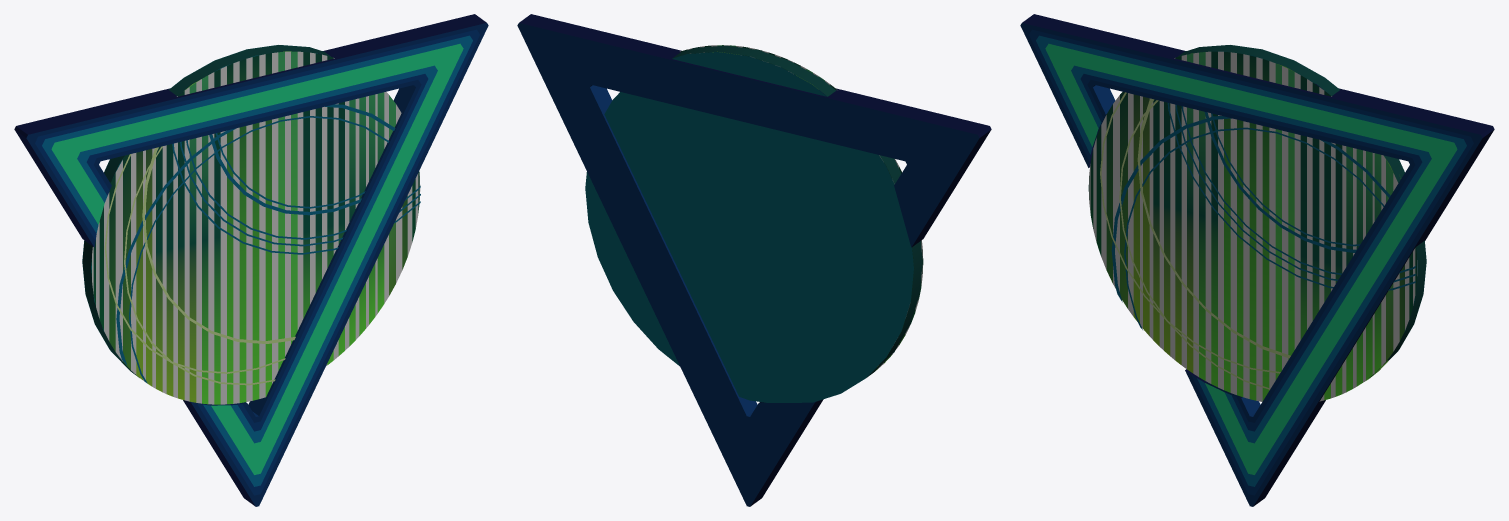
Rendered from W_O_Neonsign_010.fbx.
3 renders of one model, left to right at view 1: azimuth 30°, elevation 25°; view 2: azimuth 150°, elevation 25°; view 3: azimuth 330°, elevation 25°, orthographic.
Parts seen in each view (by area): view 1: W_O_Neonsign_010; view 2: W_O_Neonsign_010; view 3: W_O_Neonsign_010.
Part boxes in pixels (x1,y1,x2,y2): W_O_Neonsign_010: [14, 14, 488, 506]; W_O_Neonsign_010: [517, 14, 991, 506]; W_O_Neonsign_010: [1020, 14, 1494, 506].
Size of the model in its own units: 14.2 by 13.19 by 0.6439.
